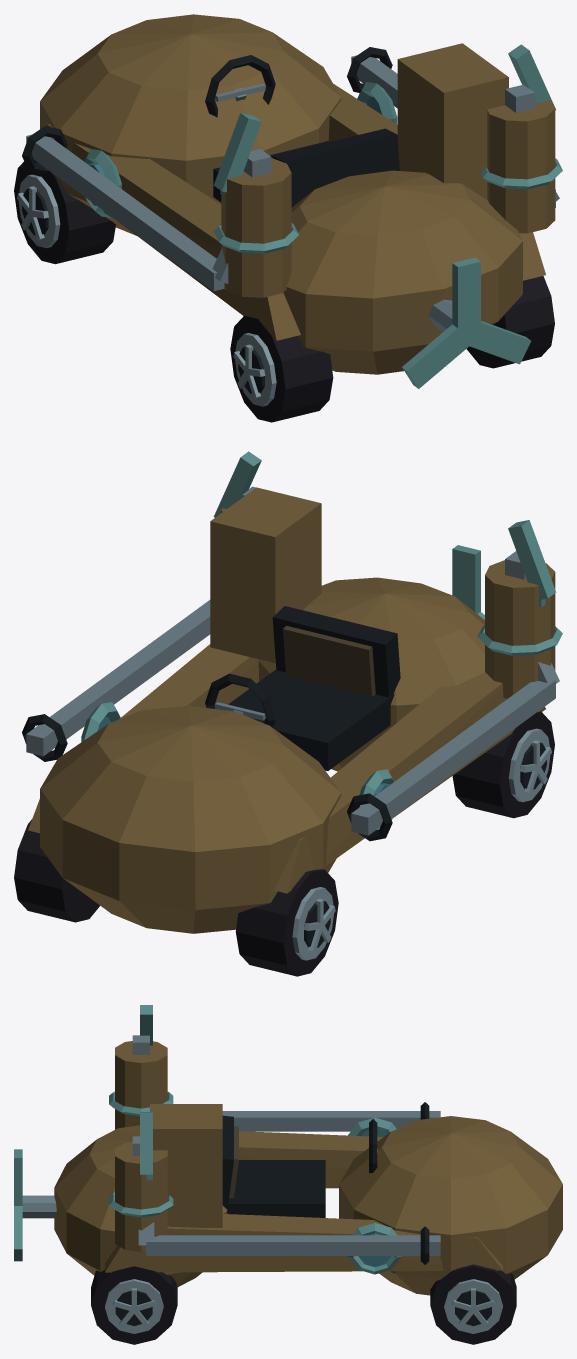
The model's file is kart.glb.
3 renders of one model, top to bottom at view 1: azimuth 30°, elevation 25°; view 2: azimuth 150°, elevation 25°; view 3: azimuth 270°, elevation 25°, orthographic. The views are drawn at different scales.
Visible parts, largest first — view 1: identity-submarine-submarine-rounded-bow-and-stern-propeller, identity-submarine-motif-tanks, identity-submarine-motif-pipes, wheel-rear-left, identity-submarine-driver-cockpit, wheel-front-left, wheel-rear-right, identity-submarine-motif-electric; view 2: identity-submarine-submarine-rounded-bow-and-stern-propeller, identity-submarine-driver-cockpit, identity-submarine-motif-pipes, identity-submarine-motif-tanks, wheel-front-left, wheel-rear-left, wheel-front-right, identity-submarine-motif-electric; view 3: identity-submarine-submarine-rounded-bow-and-stern-propeller, identity-submarine-motif-pipes, identity-submarine-motif-tanks, identity-submarine-driver-cockpit, wheel-rear-right, wheel-front-right, identity-submarine-motif-electric.
Boxes of the visible parts, box(x1,y1,x2,y2) form: identity-submarine-submarine-rounded-bow-and-stern-propeller: box(40, 14, 545, 388); identity-submarine-motif-tanks: box(213, 84, 562, 297); identity-submarine-motif-pipes: box(22, 47, 559, 291); wheel-rear-left: box(230, 315, 333, 422); identity-submarine-driver-cockpit: box(205, 55, 399, 207); wheel-front-left: box(14, 160, 115, 264); wheel-rear-right: box(466, 276, 554, 368); identity-submarine-motif-electric: box(213, 44, 555, 196); identity-submarine-submarine-rounded-bow-and-stern-propeller: box(28, 487, 545, 933); identity-submarine-driver-cockpit: box(205, 606, 400, 770); identity-submarine-motif-pipes: box(22, 600, 559, 841); identity-submarine-motif-tanks: box(221, 486, 562, 698); wheel-front-left: box(235, 869, 338, 976); wheel-rear-left: box(452, 711, 554, 818); wheel-front-right: box(14, 819, 99, 922); identity-submarine-motif-electric: box(213, 451, 556, 607); identity-submarine-submarine-rounded-bow-and-stern-propeller: box(14, 1104, 562, 1295); identity-submarine-motif-pipes: box(138, 1102, 440, 1264); identity-submarine-motif-tanks: box(109, 1035, 173, 1251); identity-submarine-driver-cockpit: box(222, 1115, 377, 1217); wheel-rear-right: box(91, 1266, 177, 1344); wheel-front-right: box(430, 1264, 516, 1344); identity-submarine-motif-electric: box(140, 1005, 152, 1180).
Size of the model in its own units: 1.94 by 1.49 by 3.17.
